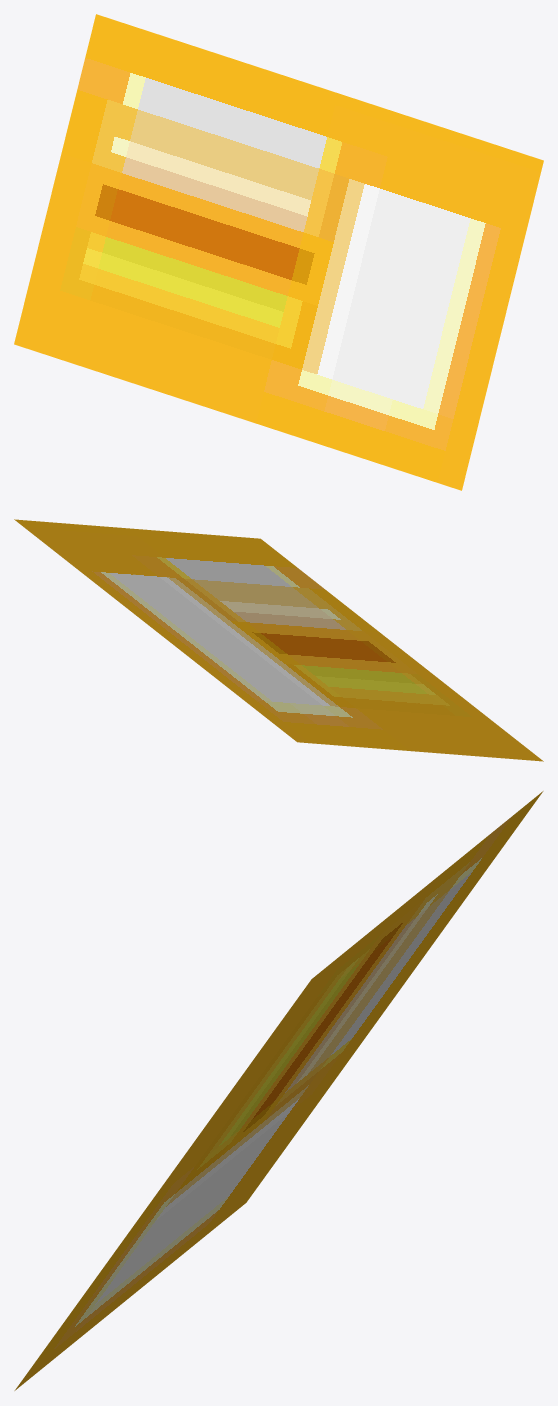
File: fg_pass_card.dae
3 views of the same model, one above another, from view 1: azimuth 30°, elevation 25°; view 2: azimuth 150°, elevation 25°; view 3: azimuth 270°, elevation 25° (orthographic). The views are drawn at different scales.
Visible parts, largest first — view 1: fg_pass_card; view 2: fg_pass_card; view 3: fg_pass_card.
Boxes of the visible parts, box(x1,y1,x2,y2) form: fg_pass_card: box(14, 14, 543, 490); fg_pass_card: box(14, 519, 543, 761); fg_pass_card: box(14, 791, 543, 1390).
Bounding box in the file's own units: 14.83 × 10.41 × 10.13.
1 material, 1 textured.
